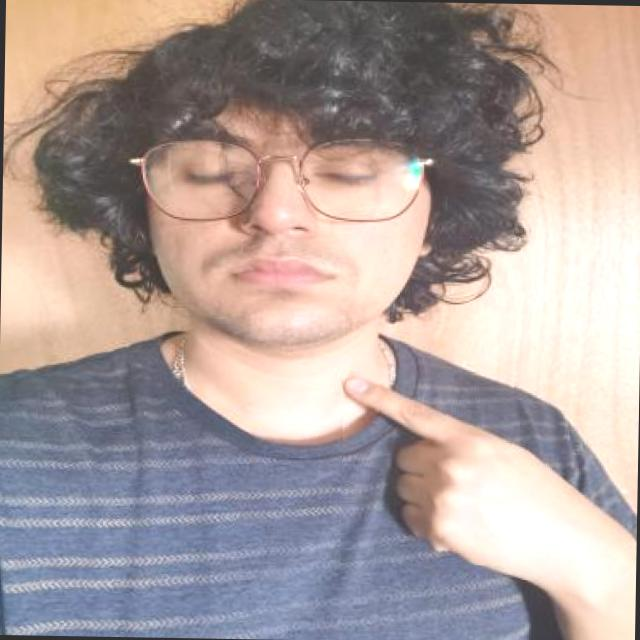Q: (340, 369, 549, 566)
